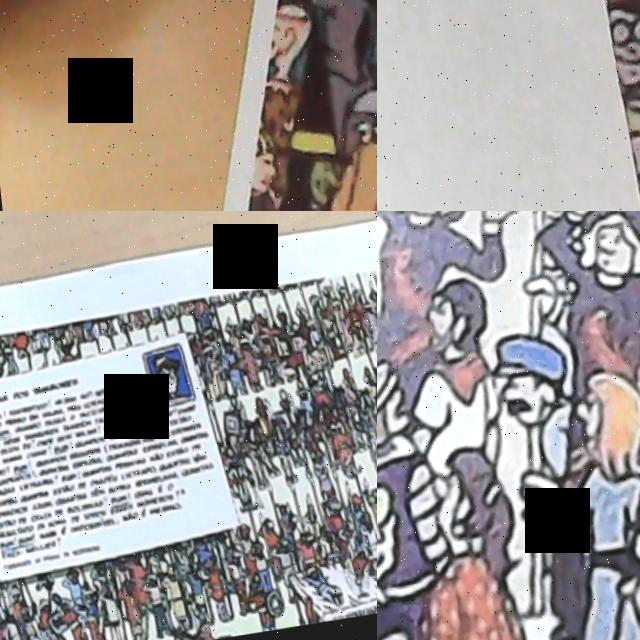waldo: (585, 0, 640, 105), (141, 354, 181, 403)
